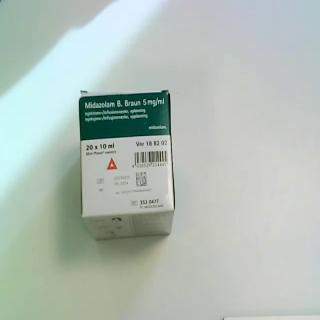midazolam5mg_ml: (79, 89, 177, 242)
